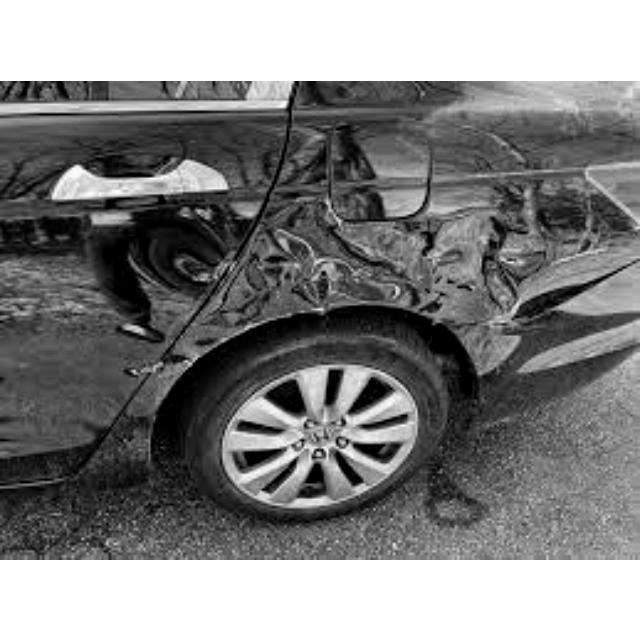quaterpanel-dent: (283, 105, 638, 381)
